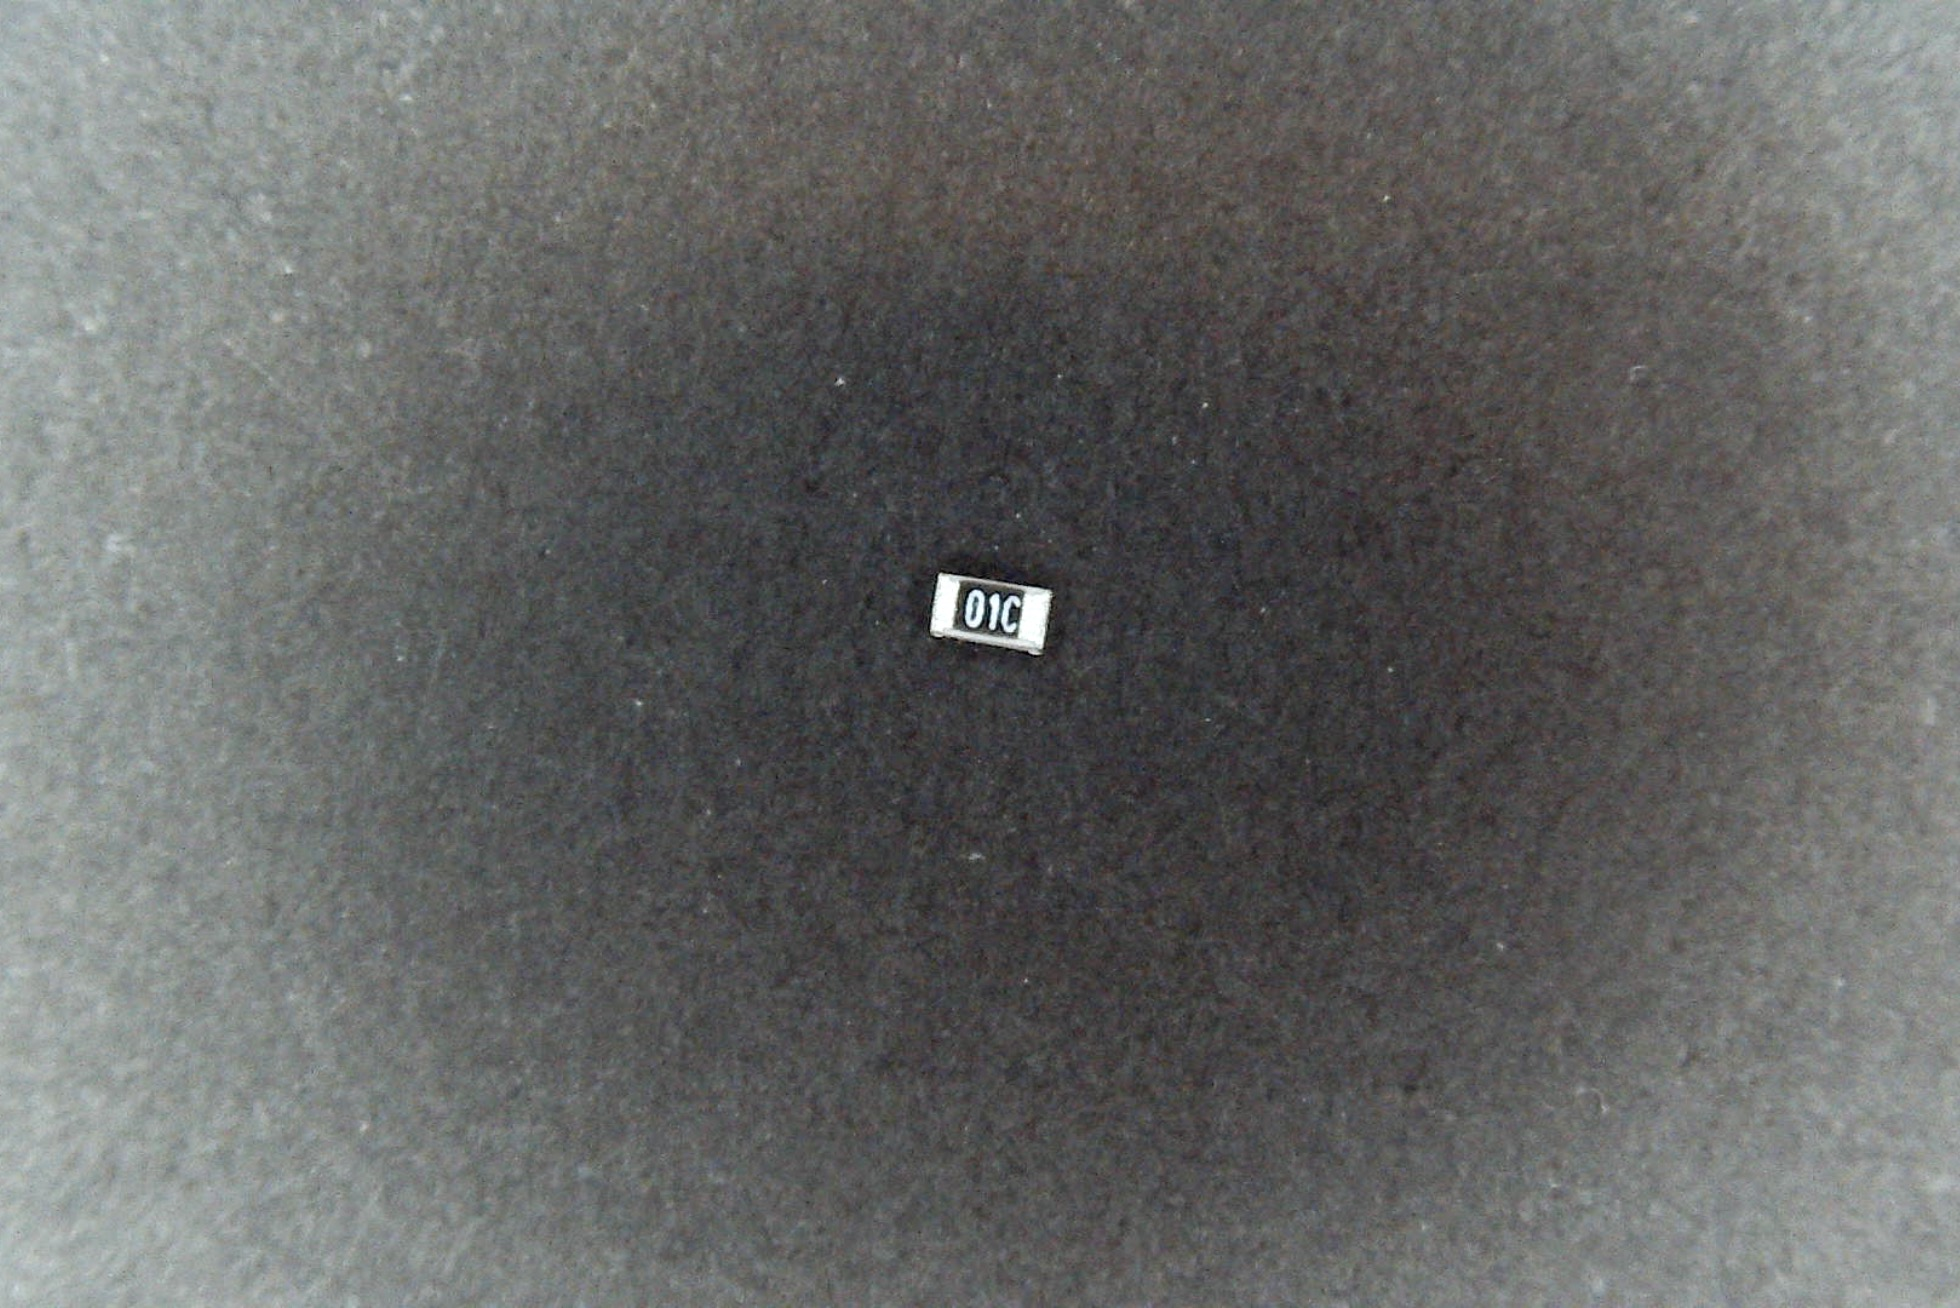bbox: (925, 569, 1052, 660)
